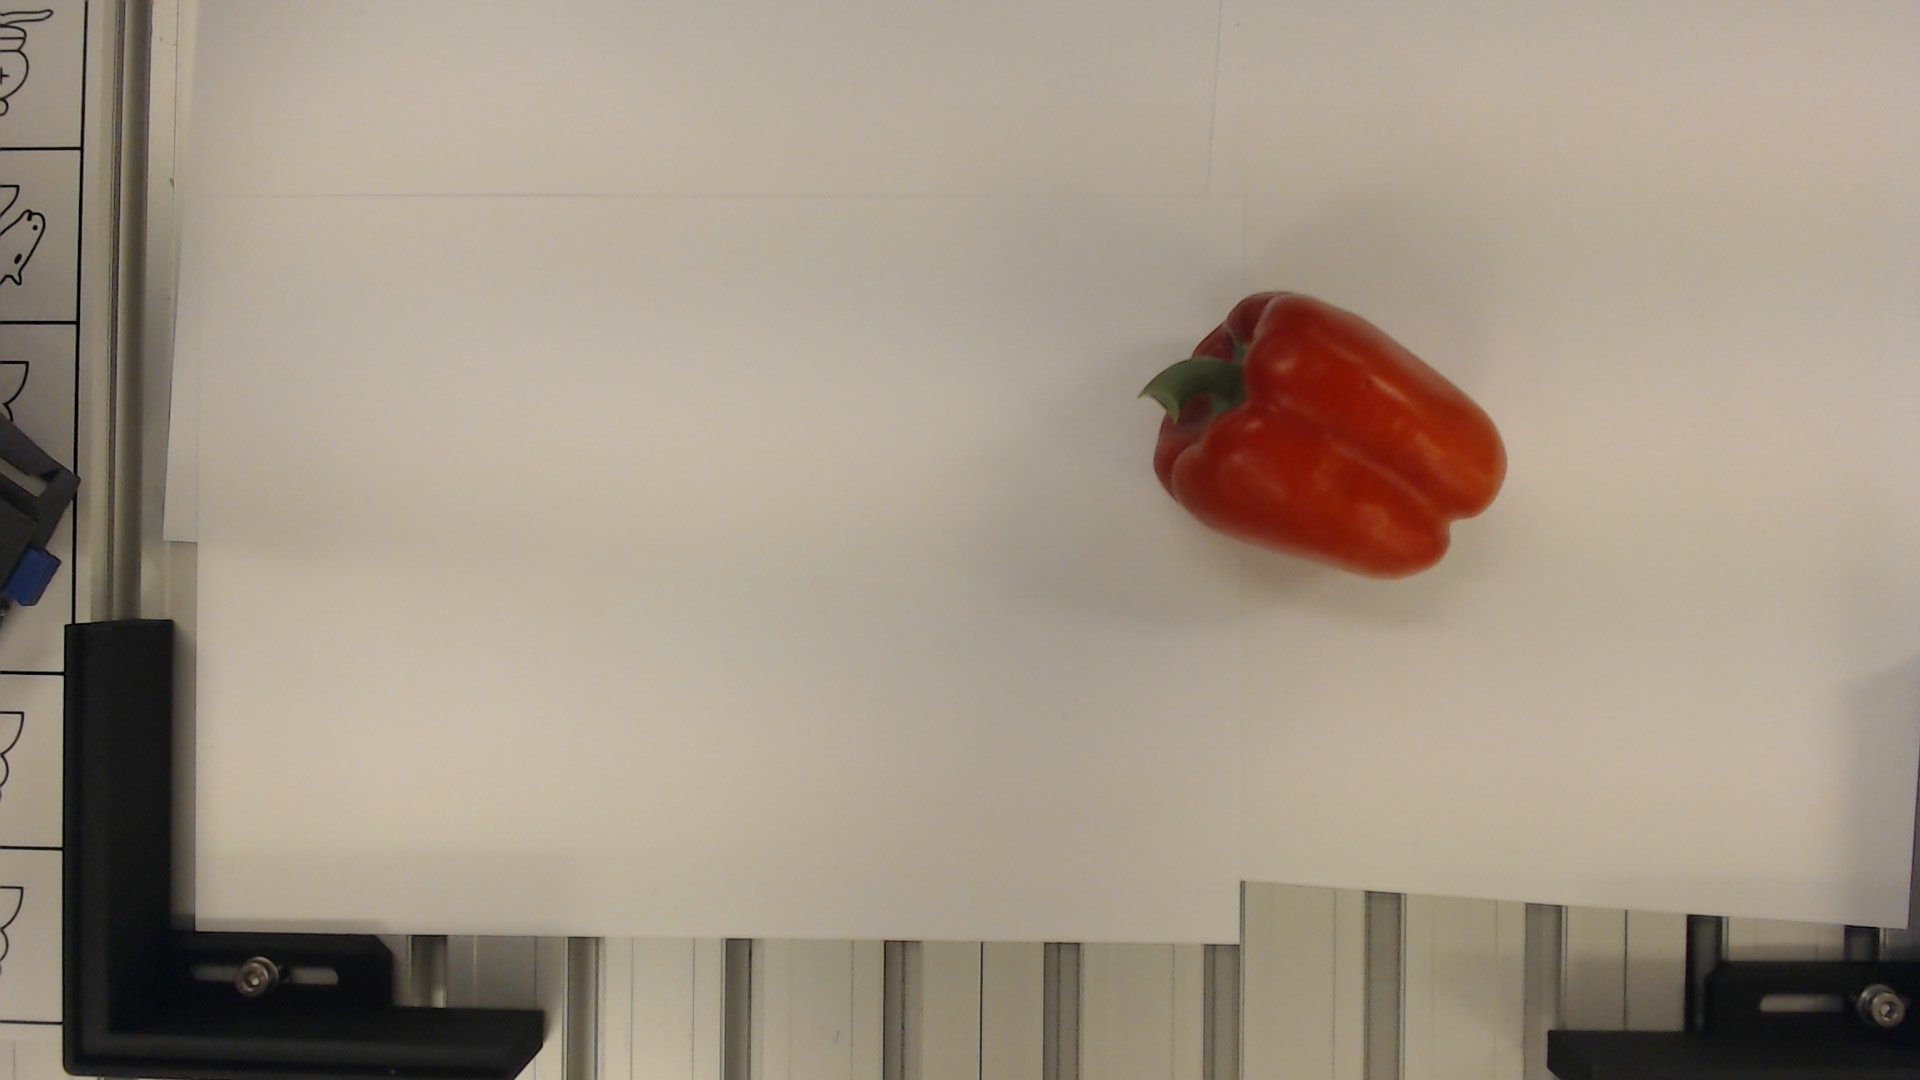Red Bell Pepper: (1127, 280, 1511, 582)
